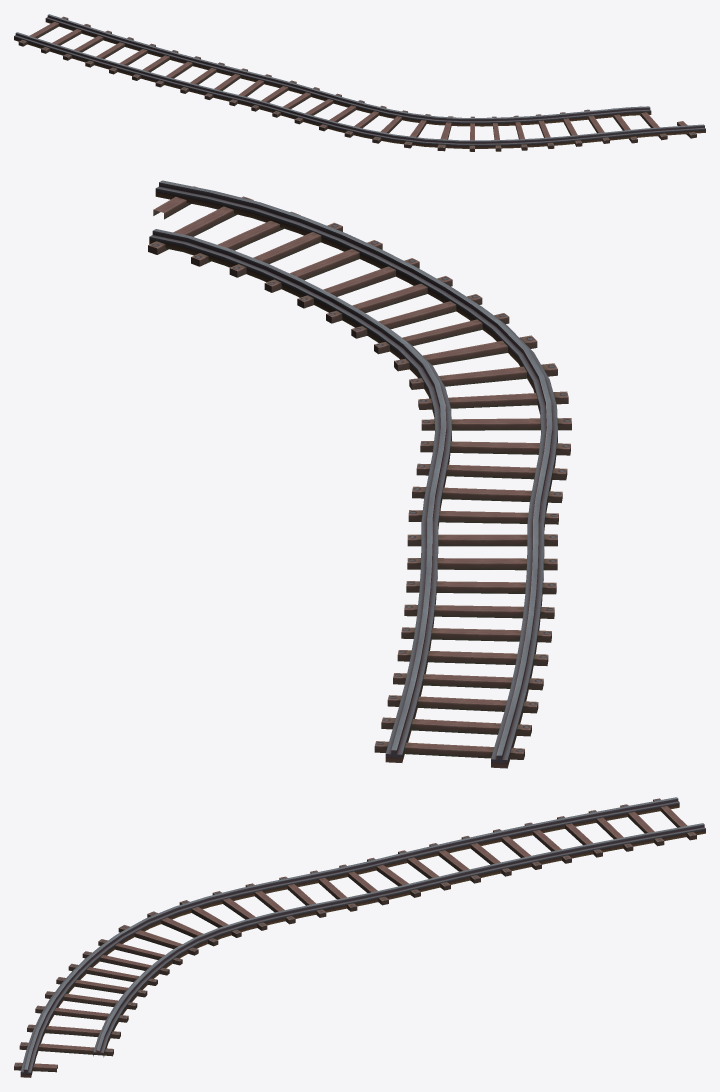
The model's file is scene_malujiakuangdao_tielu04.FBX.
3 renders of one model, top to bottom at view 1: azimuth 30°, elevation 25°; view 2: azimuth 150°, elevation 25°; view 3: azimuth 270°, elevation 25°, orthographic. The views are drawn at different scales.
Visible parts, largest first — view 1: scene_malujiakuangdao_tielu04; view 2: scene_malujiakuangdao_tielu04; view 3: scene_malujiakuangdao_tielu04.
Part boxes in pixels (box(x1,y1,x2,y2)): scene_malujiakuangdao_tielu04: box(14, 14, 705, 151); scene_malujiakuangdao_tielu04: box(148, 180, 571, 768); scene_malujiakuangdao_tielu04: box(14, 797, 705, 1077).
Bounding box in the file's own units: 1514 × 44.86 × 1663.
